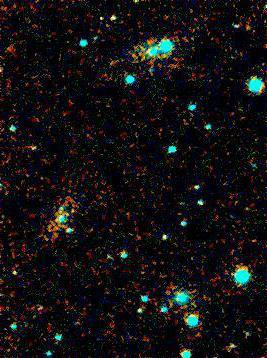star: (229, 12, 259, 42)
